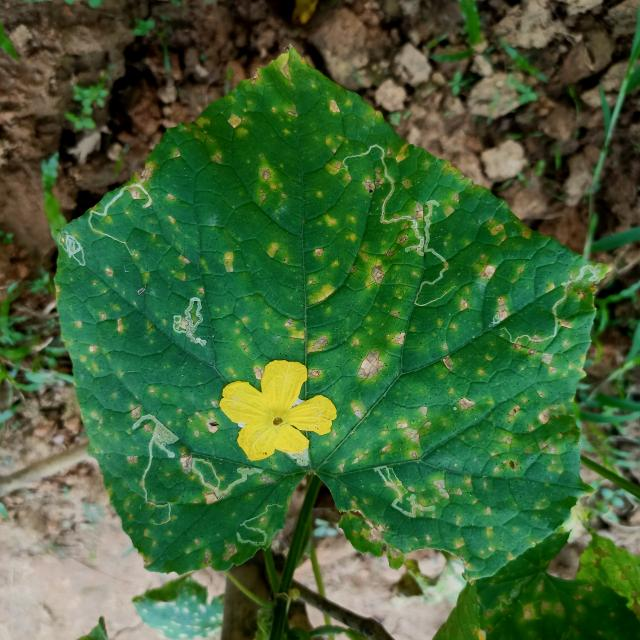disease_cucumber: (75, 76, 581, 551)
